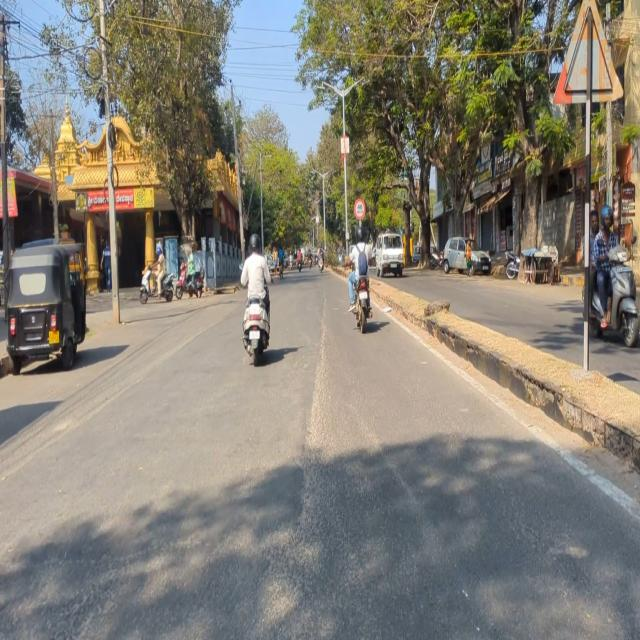bien_cam: (353, 196, 366, 221)
